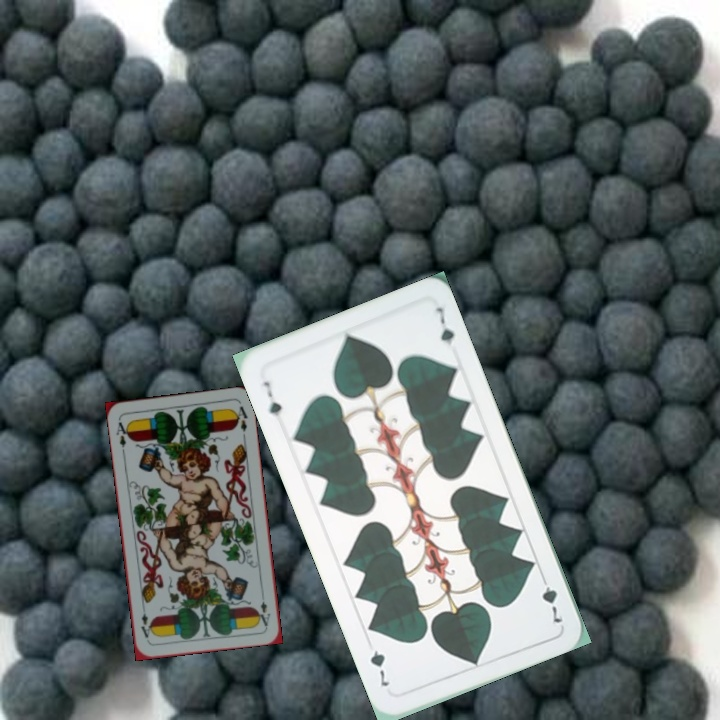EA: (254, 588, 273, 629), (112, 418, 132, 456)
G7: (536, 570, 565, 627), (259, 377, 285, 419)
